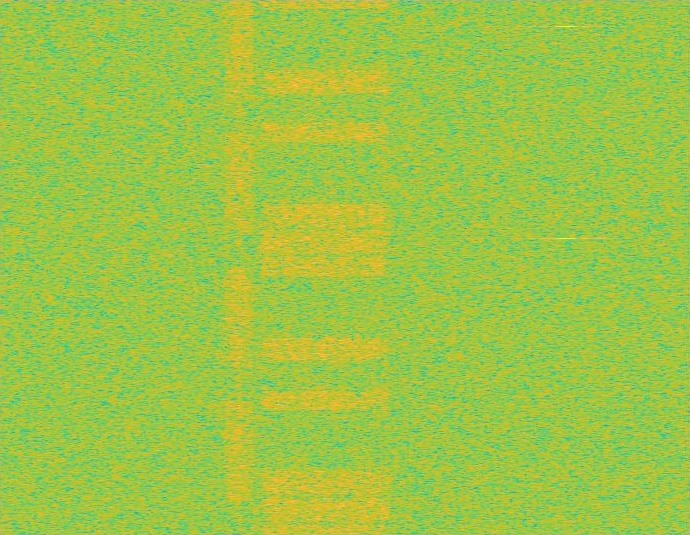5G: (222, 0, 256, 534)
DSSS: (237, 0, 242, 534)
LTE: (257, 0, 395, 534)
Radar: (559, 0, 573, 534)
